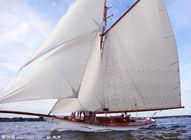fanchuan: (2, 1, 183, 129)
